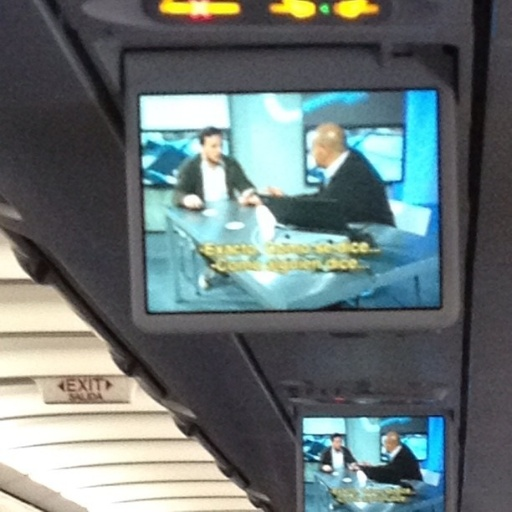hand: (236, 190, 262, 205), (182, 192, 203, 209), (266, 182, 281, 194)
